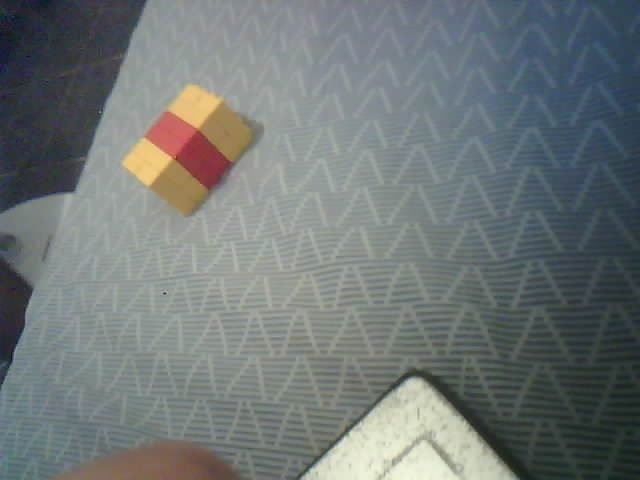lego: (120, 82, 254, 220)
